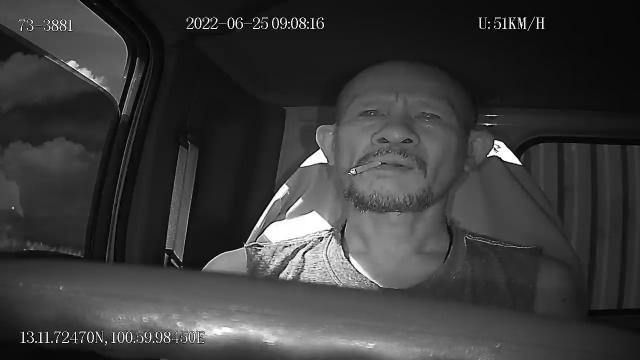SafeDriving: (408, 100, 446, 130), (352, 100, 392, 126)
Smoking: (348, 160, 384, 176)
